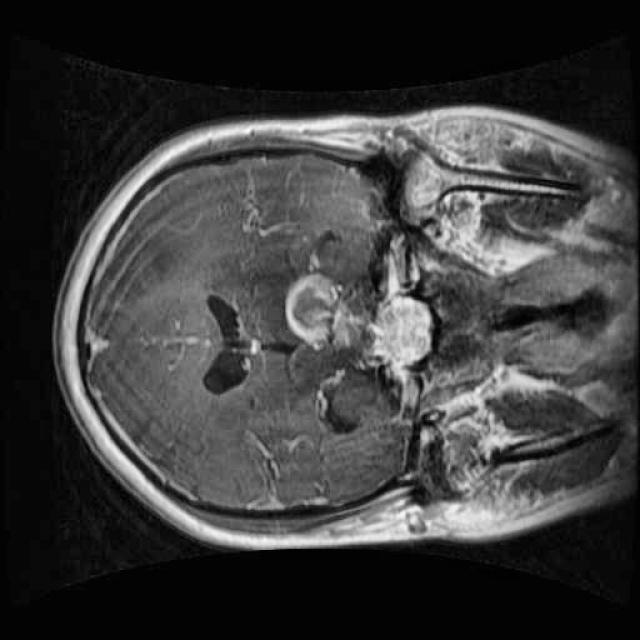Non-Tumor: (280, 260, 391, 374)
